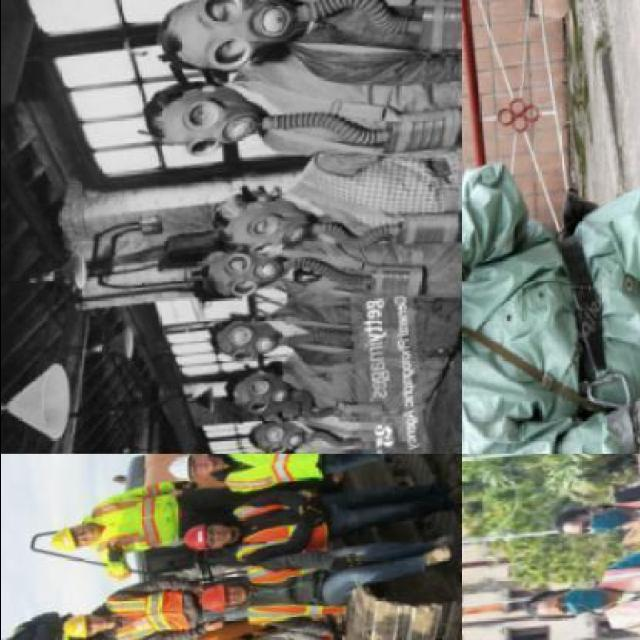helmet: (198, 584, 235, 616), (165, 454, 202, 486), (46, 526, 78, 558), (180, 524, 212, 554), (58, 613, 86, 640)
jacket: (88, 484, 184, 562), (226, 501, 328, 562), (105, 578, 189, 640), (218, 452, 331, 498)
